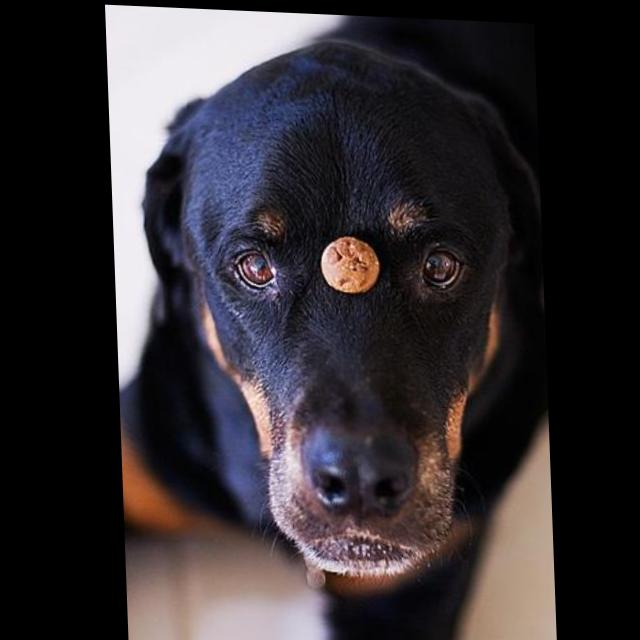rottweiler: (107, 5, 554, 640)
